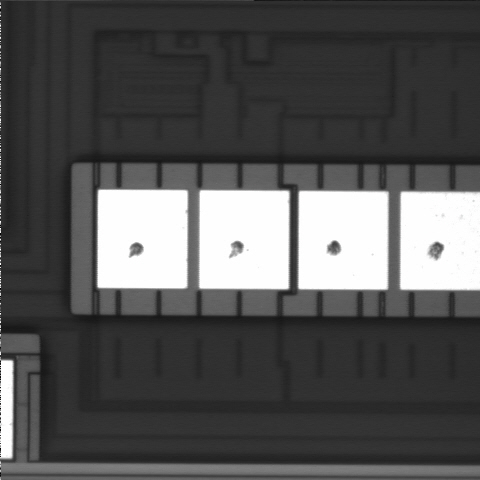pad: (199, 190, 289, 289), (298, 191, 388, 290), (98, 190, 188, 288)
